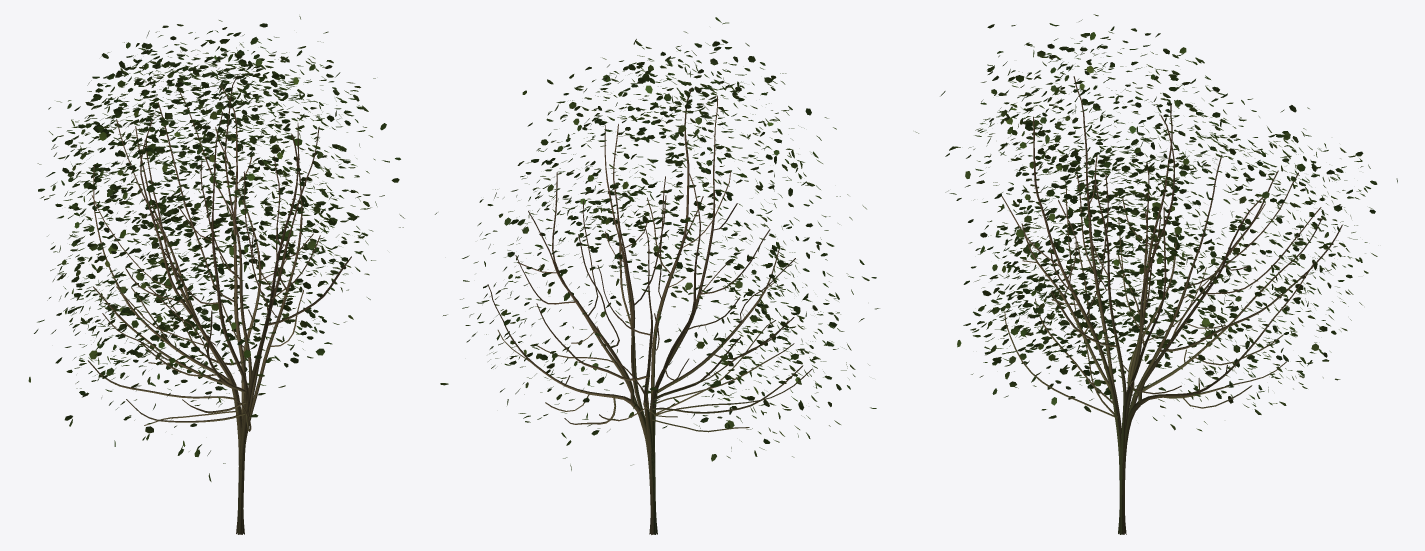
File: SM_Tree_hazel_2.glb
3 views of the same model, side by side, from view 1: azimuth 30°, elevation 25°; view 2: azimuth 150°, elevation 25°; view 3: azimuth 270°, elevation 25° (orthographic). The views are drawn at different scales.
Parts seen in each view (by area): view 1: SM_Tree_hazel_2; view 2: SM_Tree_hazel_2; view 3: SM_Tree_hazel_2.
Boxes of the visible parts, x1,y1,x2,y2 form: SM_Tree_hazel_2: [28, 16, 404, 534]; SM_Tree_hazel_2: [435, 17, 879, 534]; SM_Tree_hazel_2: [915, 14, 1397, 534].
Bounding box in the file's own units: 5.29 × 6.75 × 6.13.
